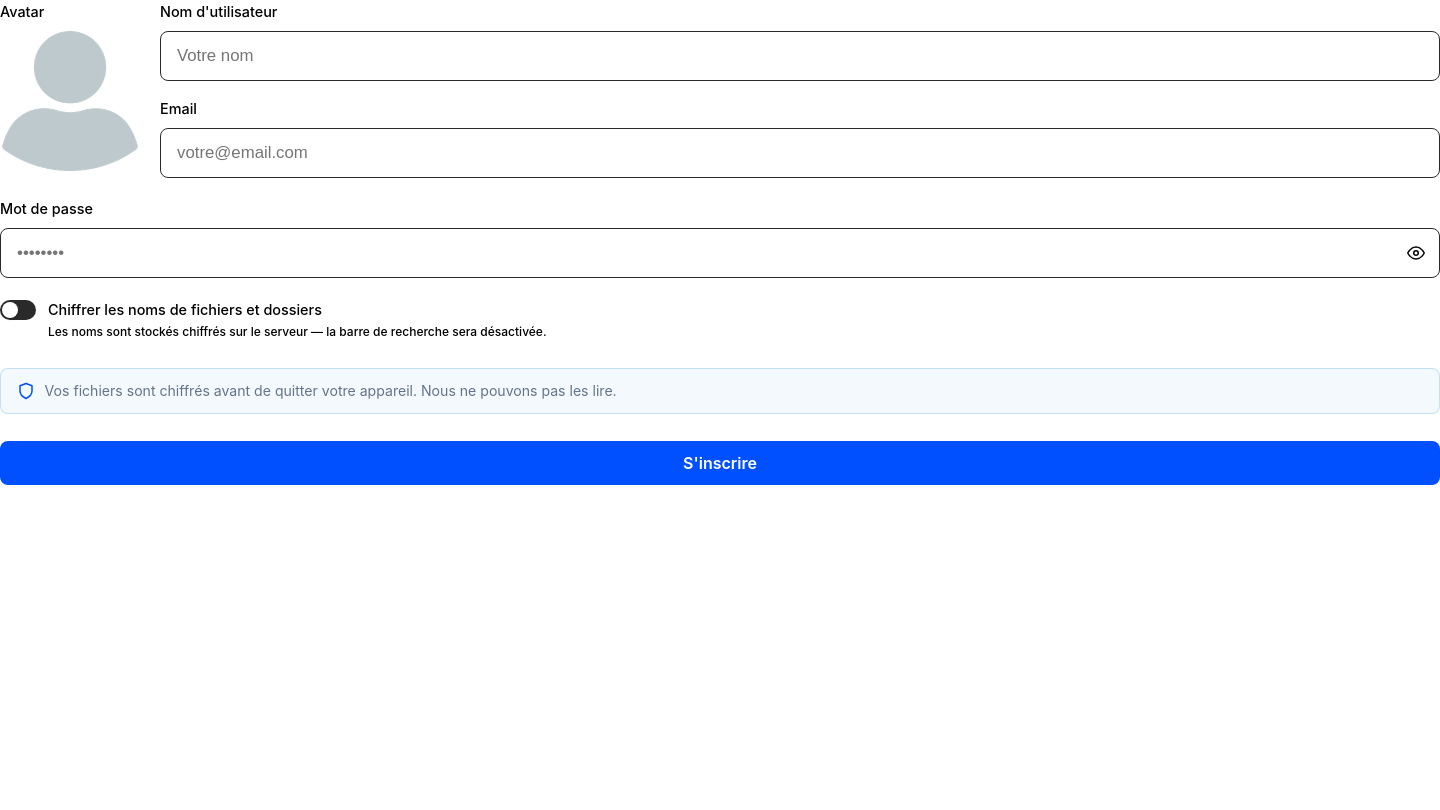
Test: registerComponent — registration form › shows spinner on submit and hides after completion
# Fill and start submit (don't await flushPromises yet)
Type "TestUser" into the field with placeholder "Votre nom" at (800, 56), box [160, 31, 1439, 81]
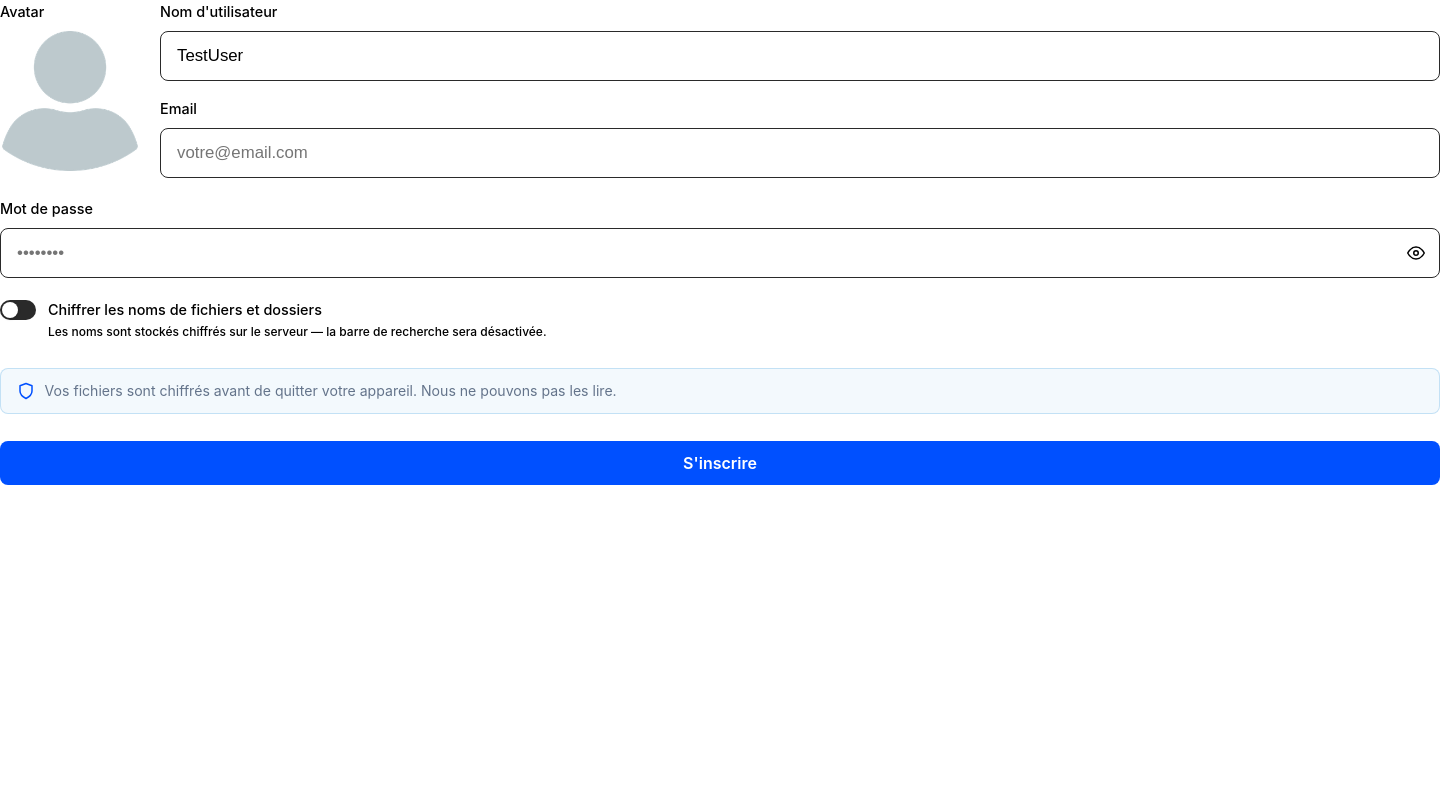
Type "user@example.com" into the field with placeholder "votre@email.com" at (800, 153), box [160, 128, 1439, 178]
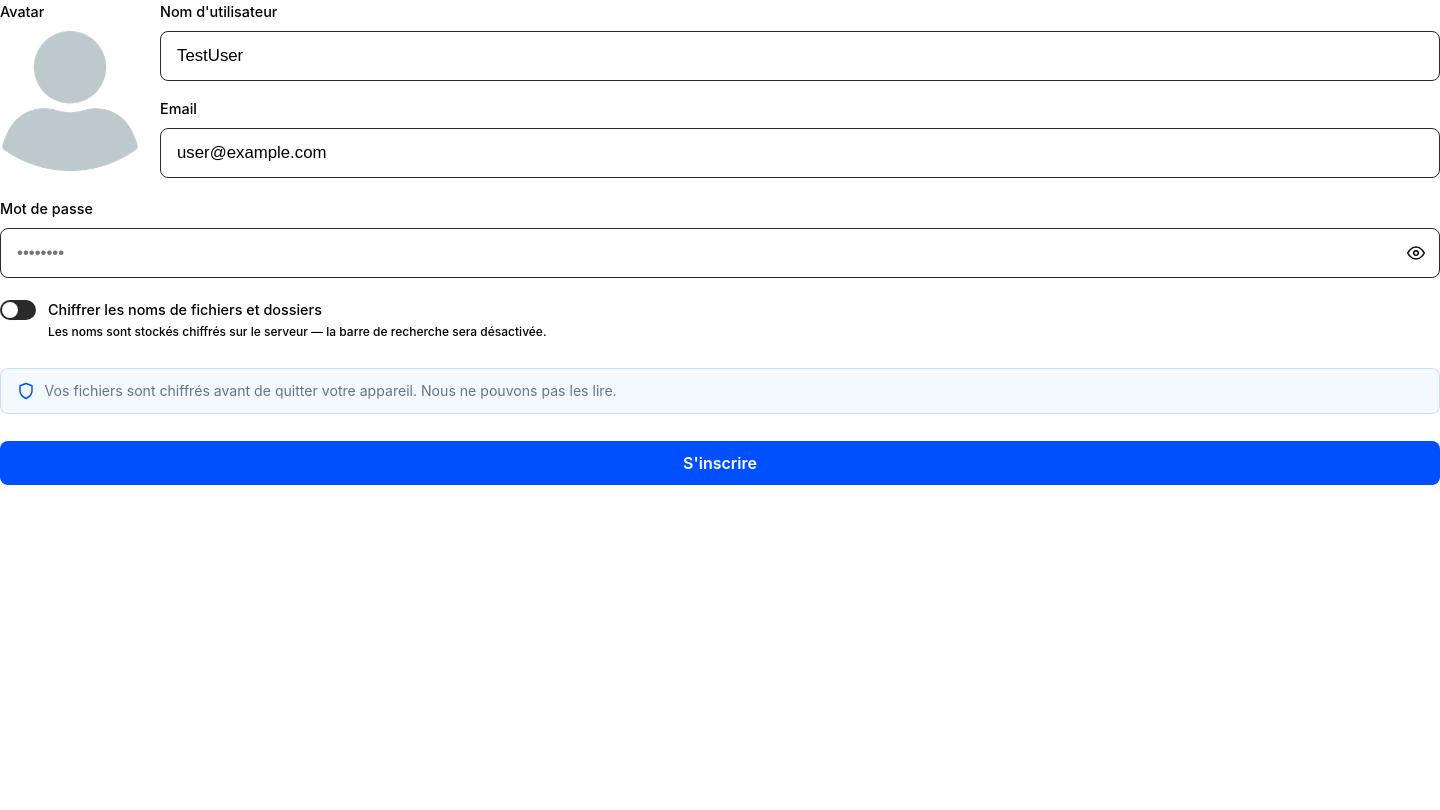
Type "Abcdefghijklmnopqrst1!" into the password field with placeholder "••••••••" at (720, 253), box [0, 228, 1439, 278]
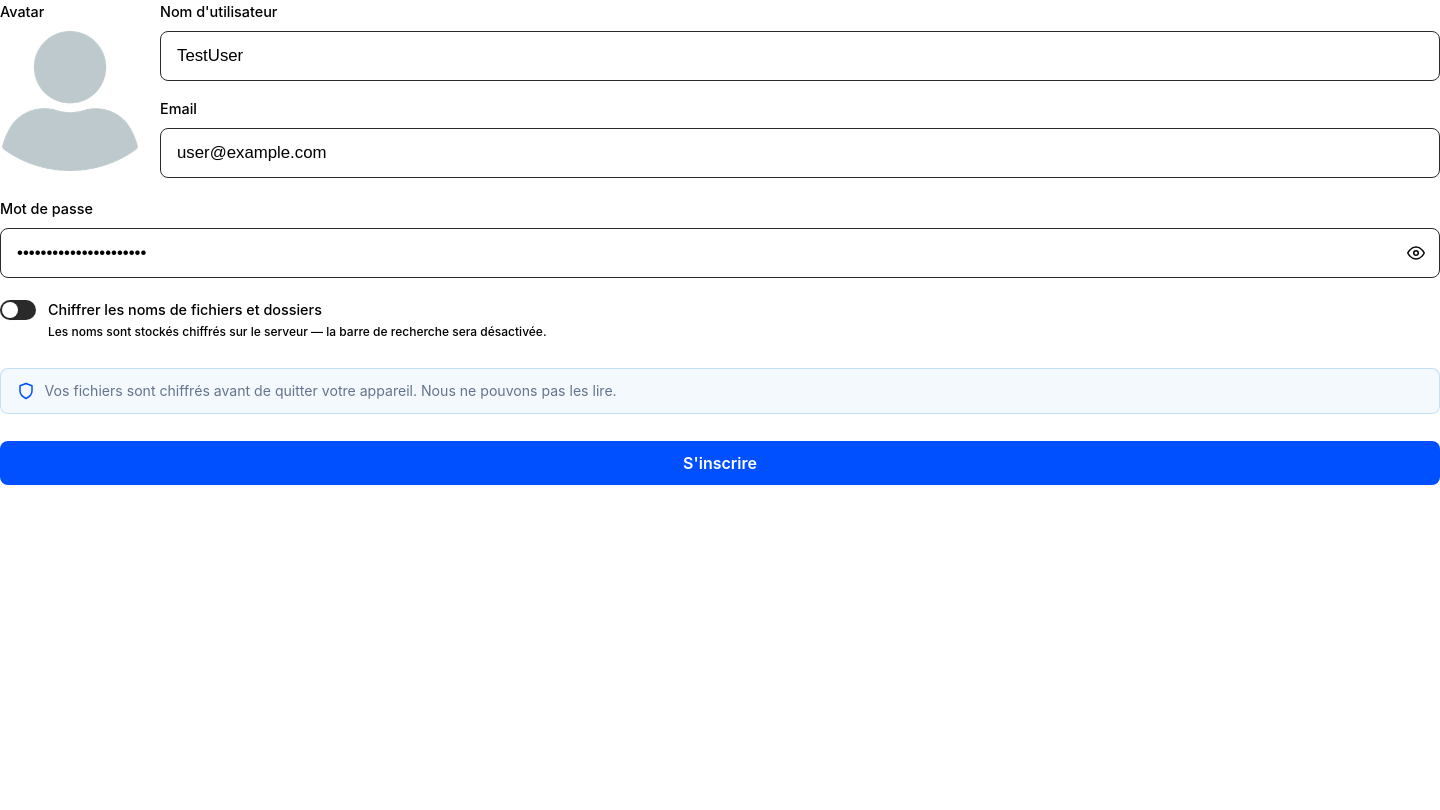
Submit the form, box [0, 0, 1439, 485]
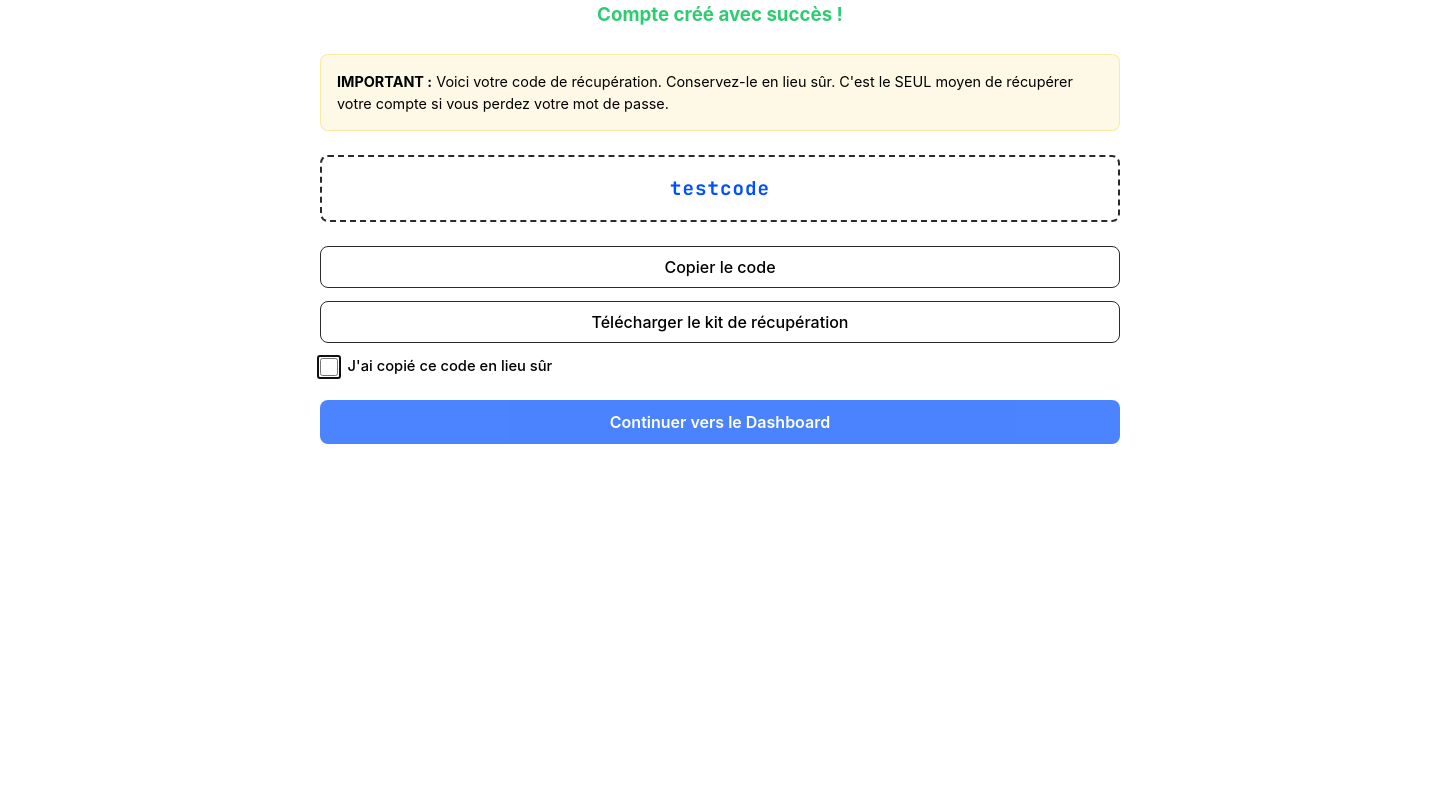
Check: the dialog with class "recovery-display" is shown, box [320, 0, 1120, 444]
